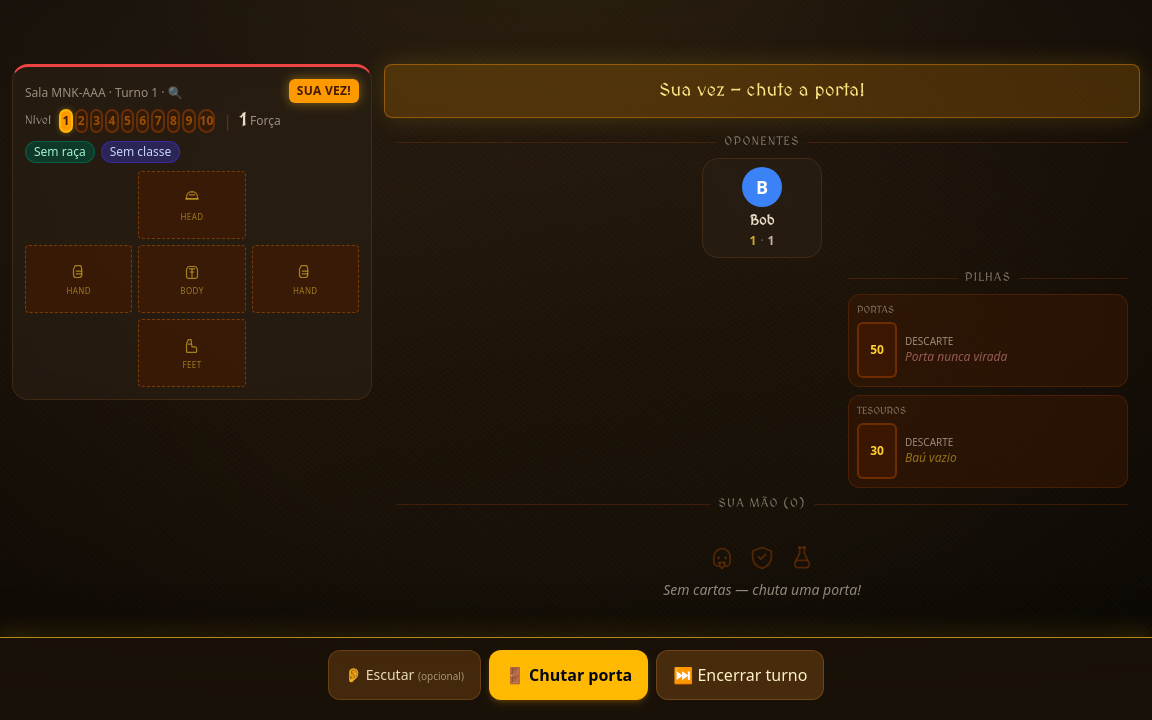
PlayerView › clicking an opponent card opens the player detail modal
Click the button with test id "opponent-p2": (762, 208) [702, 158, 822, 258]
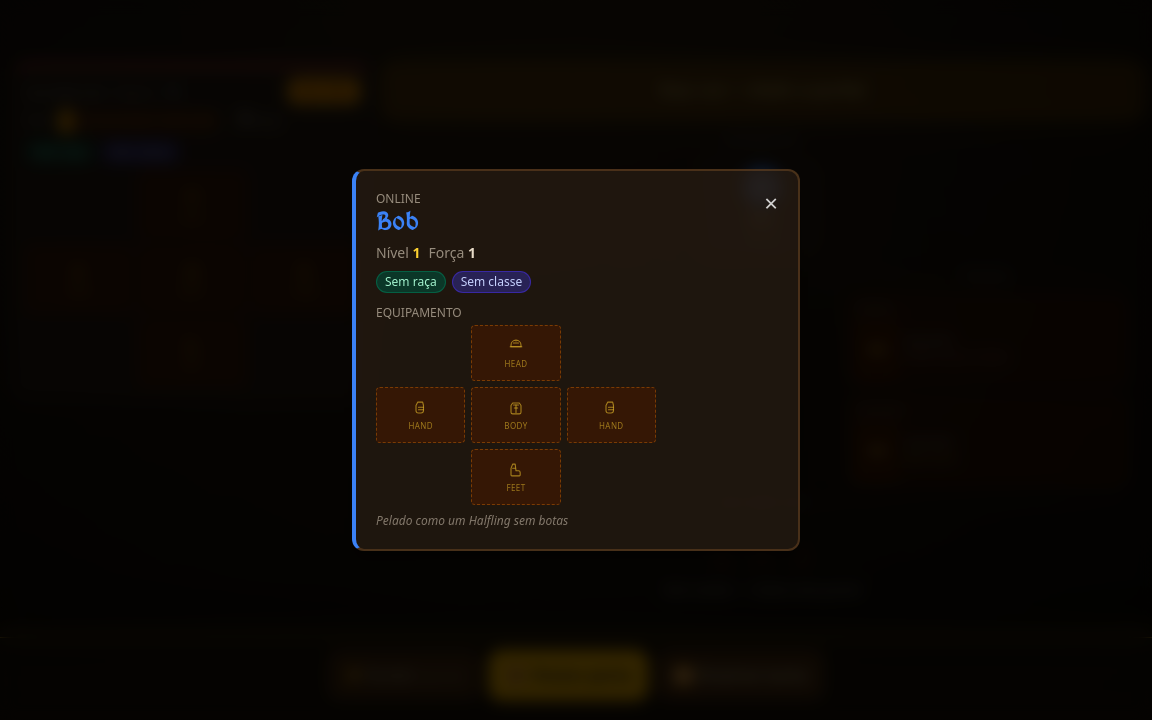
Check: the dialog with test id "player-detail-modal-p2" is shown
